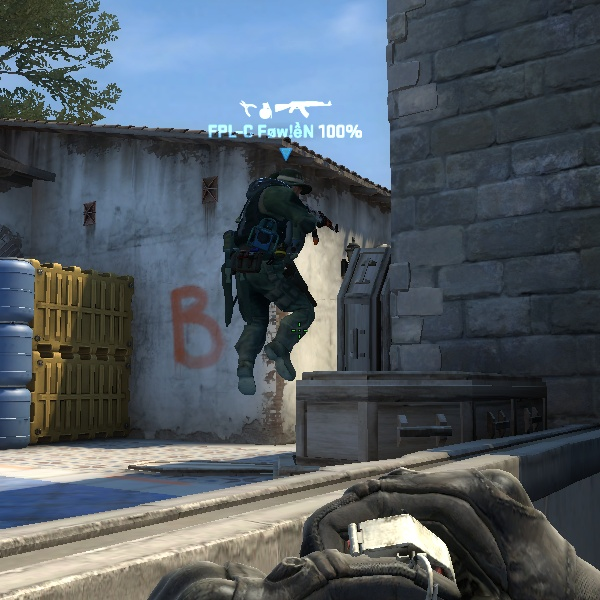ct_body: (207, 150, 335, 450)
